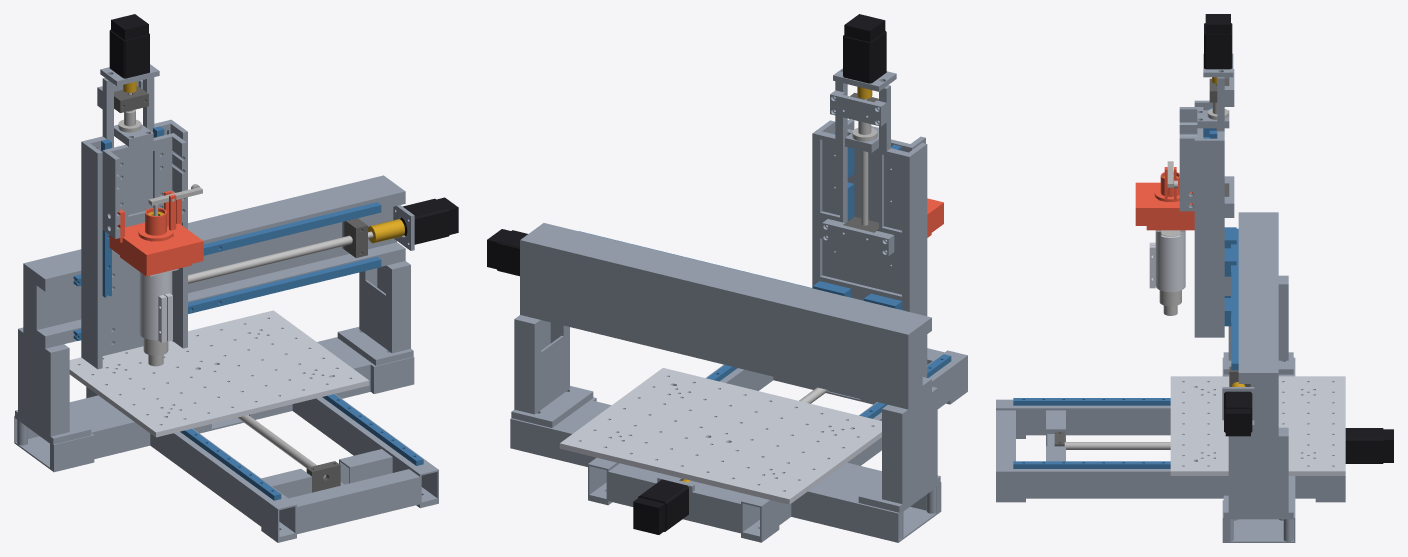
File: standard_home.glb
The picture shows the model from 3 angles, left to right: view 1: azimuth 30°, elevation 25°; view 2: azimuth 150°, elevation 25°; view 3: azimuth 270°, elevation 25°; orthographic projection. The views are drawn at different scales.
Visible parts, largest first — view 1: table, beam, x_carriage, frame_cross_rear, z_slide, upright_R, frame_longeron_L, upright_L, frame_cross_front, frame_longeron_R, tooldock_master, x_rail_bot (+17 smaller); view 2: beam, table, x_carriage, frame_cross_rear, upright_R, upright_L, frame_cross_end, frame_longeron_L, z_motor, y_motor, frame_longeron_R, z_slide (+5 smaller); view 3: table, beam, frame_longeron_R, x_carriage, upright_R, frame_longeron_L, frame_cross_rear, head_mount, z_slide, tooldock_master, y_motor, z_motor (+9 smaller).
Boxes of the visible parts, left/top/right/bottom form: table: left=69, top=310, right=369, bottom=437; beam: left=23, top=175, right=414, bottom=348; x_carriage: left=81, top=77, right=187, bottom=369; frame_cross_rear: left=14, top=337, right=414, bottom=472; z_slide: left=102, top=133, right=186, bottom=238; upright_R: left=337, top=261, right=413, bottom=365; frame_longeron_L: left=86, top=387, right=296, bottom=542; upright_L: left=15, top=327, right=91, bottom=444; frame_cross_front: left=288, top=469, right=419, bottom=534; frame_longeron_R: left=292, top=394, right=438, bottom=508; tooldock_master: left=109, top=191, right=203, bottom=274; x_rail_bot: left=73, top=257, right=381, bottom=340; beam: left=520, top=223, right=931, bottom=409; table: left=559, top=368, right=881, bottom=504; x_carriage: left=812, top=81, right=927, bottom=377; frame_cross_rear: left=510, top=397, right=941, bottom=542; upright_R: left=511, top=315, right=593, bottom=427; upright_L: left=858, top=386, right=940, bottom=512; frame_cross_end: left=608, top=463, right=749, bottom=533; frame_longeron_L: left=741, top=350, right=967, bottom=542; z_motor: left=843, top=14, right=886, bottom=83; y_motor: left=633, top=479, right=688, bottom=534; frame_longeron_R: left=588, top=364, right=773, bottom=505; z_slide: left=847, top=119, right=925, bottom=222; table: left=1170, top=376, right=1345, bottom=475; beam: left=1222, top=212, right=1278, bottom=436; frame_longeron_R: left=996, top=463, right=1345, bottom=502; x_carriage: left=1194, top=77, right=1224, bottom=337; upright_R: left=1223, top=427, right=1293, bottom=517; frame_longeron_L: left=996, top=399, right=1170, bottom=438; frame_cross_rear: left=1222, top=357, right=1295, bottom=542; head_mount: left=1149, top=230, right=1185, bottom=292; z_slide: left=1179, top=107, right=1203, bottom=211; tooldock_master: left=1135, top=182, right=1194, bottom=225; y_motor: left=1345, top=428, right=1393, bottom=463; z_motor: left=1204, top=14, right=1232, bottom=69.
Size of the model in its own units: 857 by 883 by 797.
